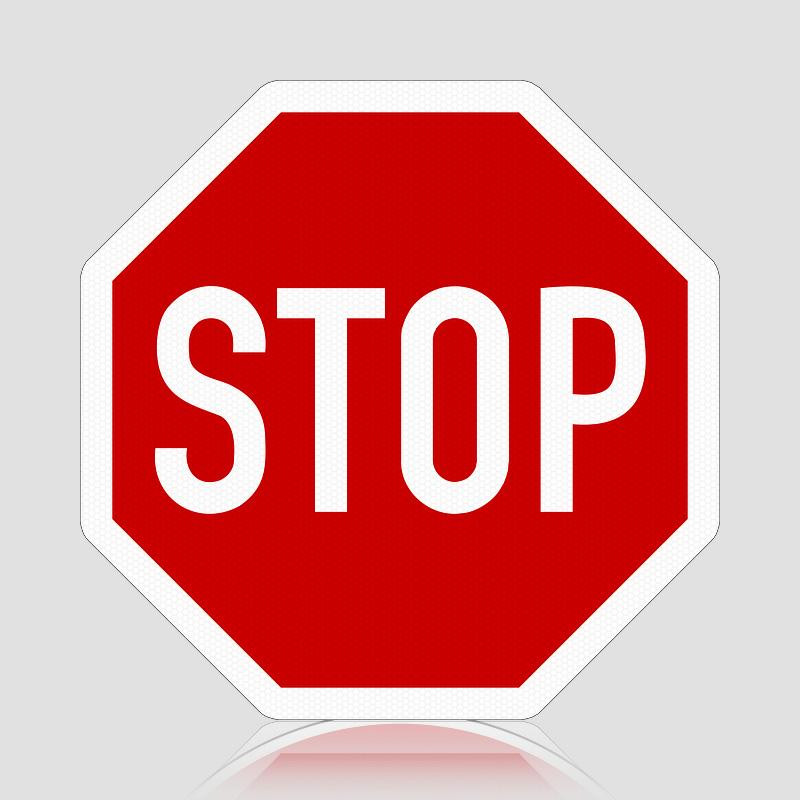Stop: (67, 75, 732, 732)
